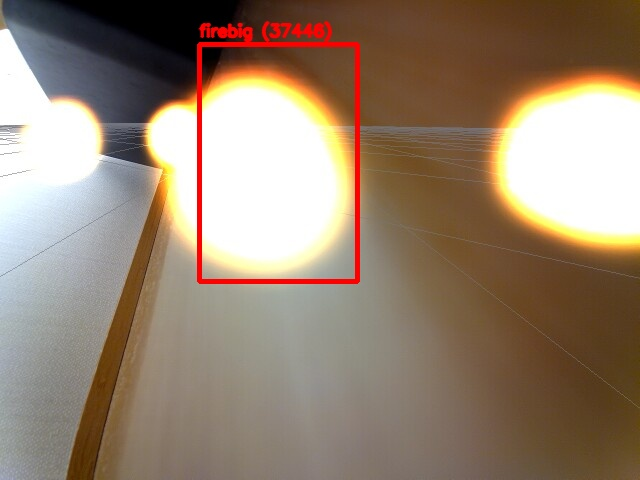firebig: (199, 44, 357, 281)
